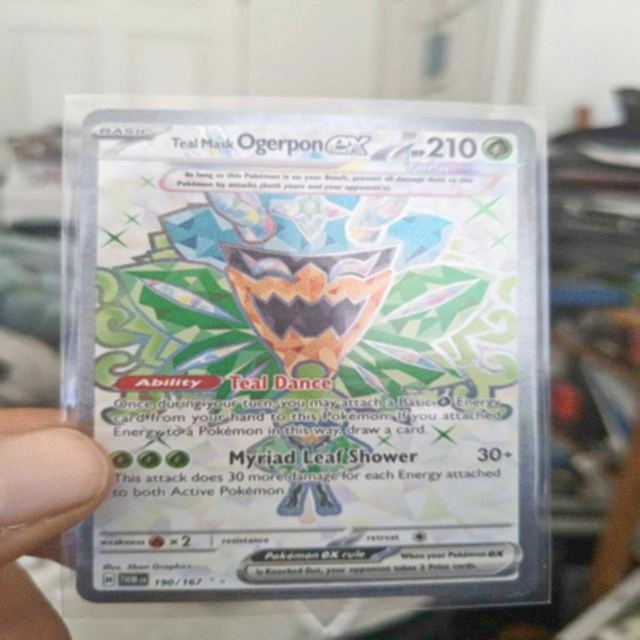card: (73, 108, 541, 604)
